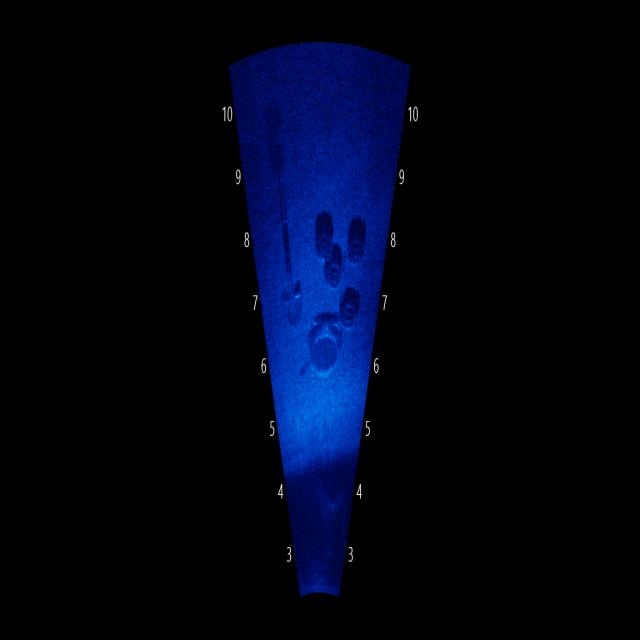circle: (302, 308, 345, 388), (334, 289, 361, 339)
